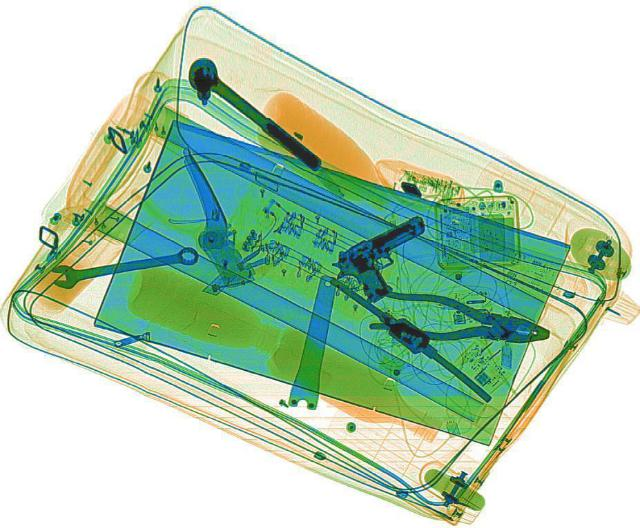Gun: (318, 211, 458, 307)
Pliers: (366, 285, 554, 352)
Wrench: (46, 243, 202, 289)
